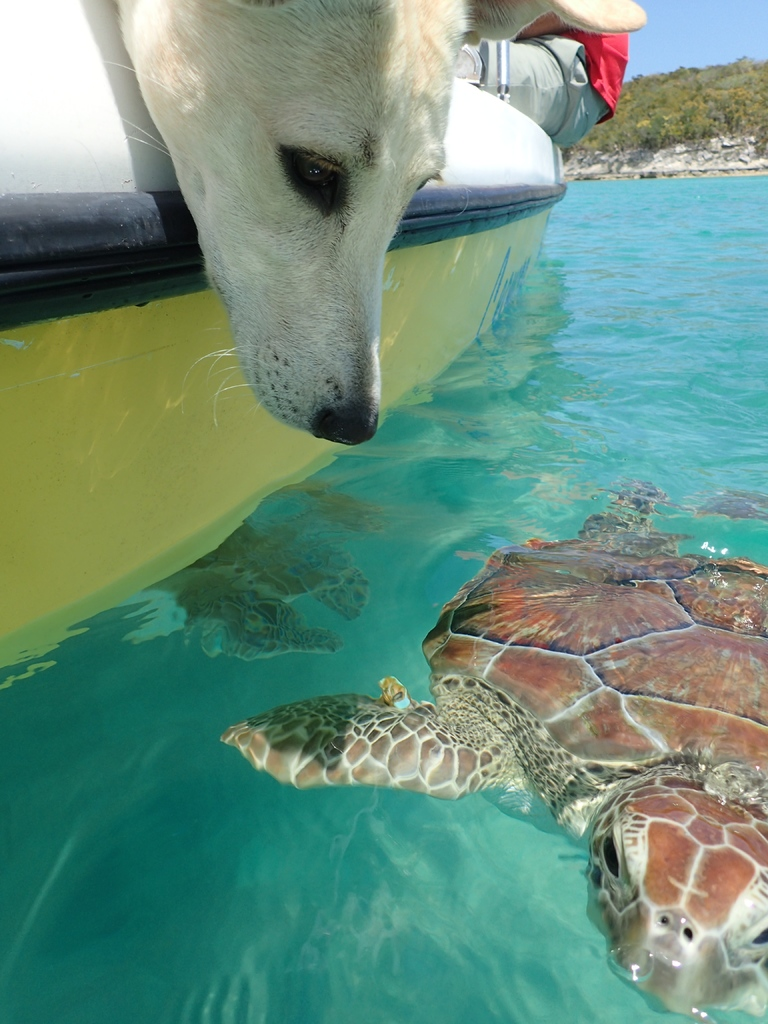Sea turtles: (216, 476, 767, 1023), (157, 480, 379, 672)
